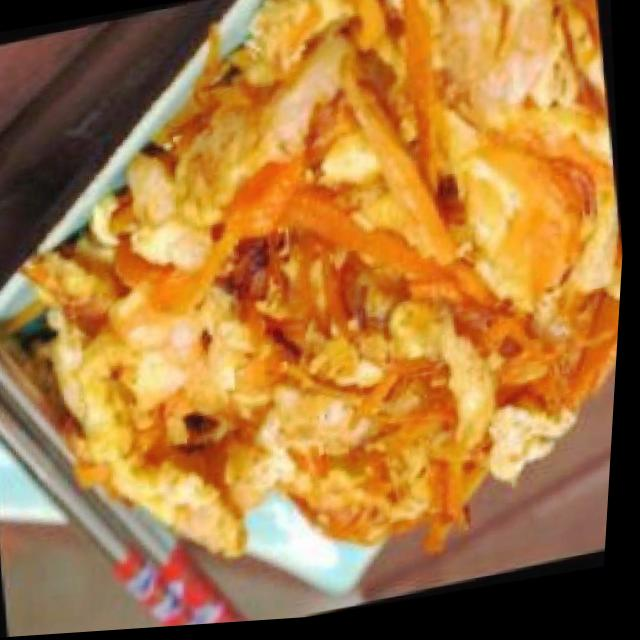carrot_eggs: (1, 0, 640, 615)
